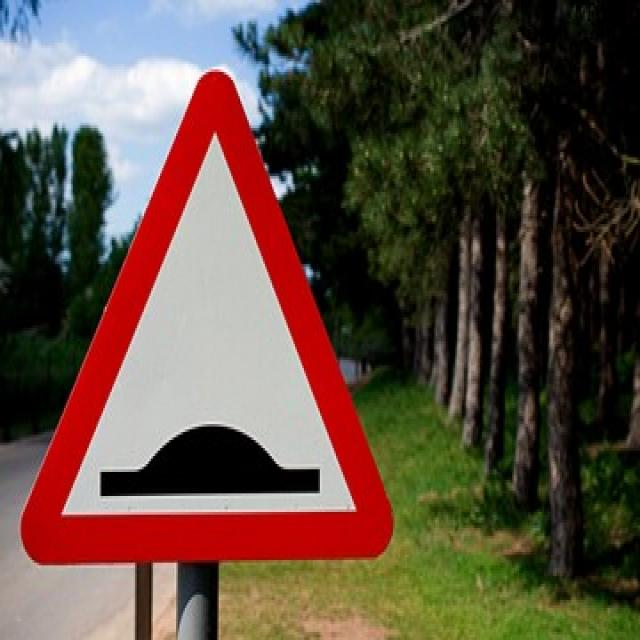hump: (19, 62, 396, 580)
